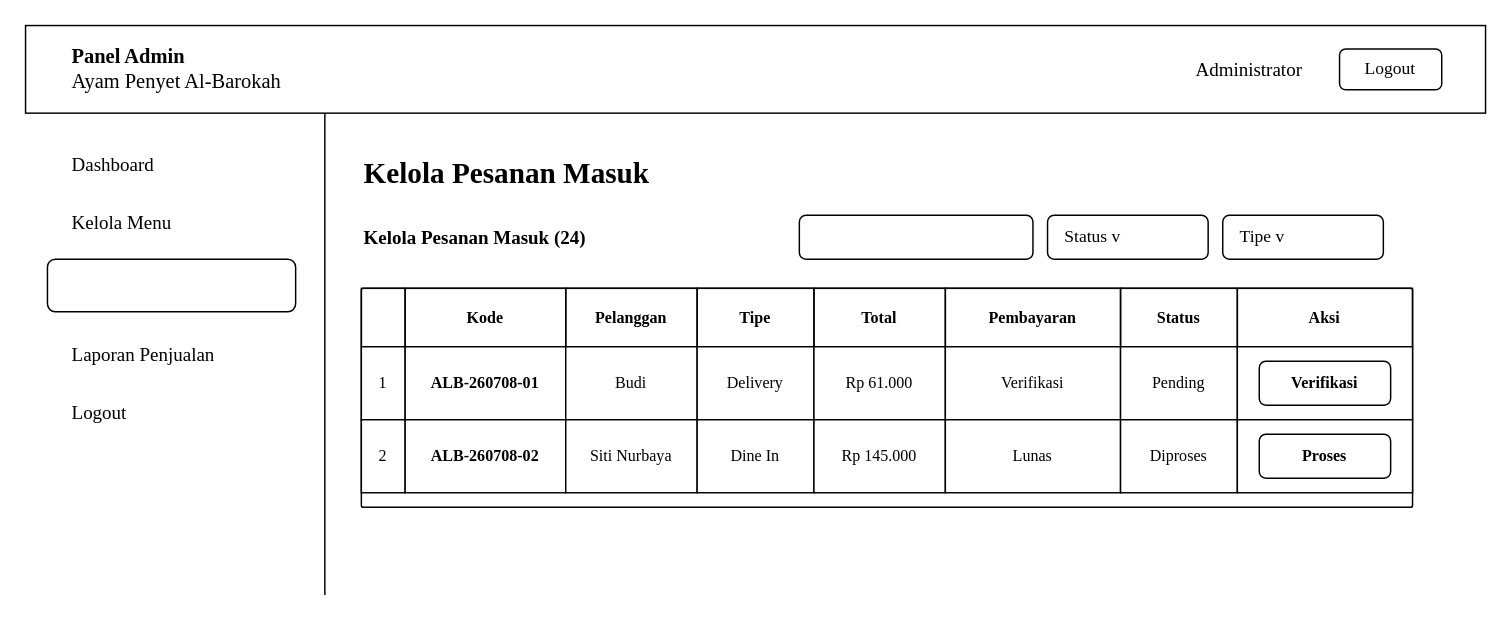
Image size: 1511x621. Some labels were removed from this diagram. The shapes that lost their labels are listed below. From the top down, each one's box as (x1, y1, x2, y2) in pixels, then its label:
(798, 214, 1033, 259): Cari Pesanan...
(46, 258, 296, 312): Kelola Pesanan
(360, 287, 405, 347): No
